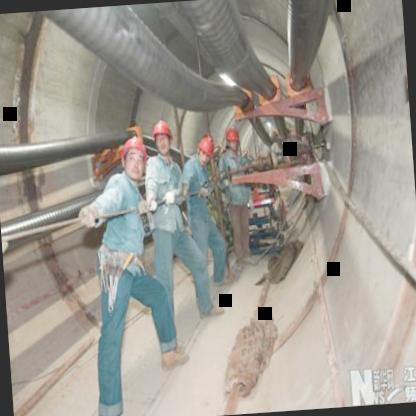helmet: (120, 131, 148, 176), (151, 118, 175, 158), (194, 134, 217, 168), (225, 126, 242, 151)
